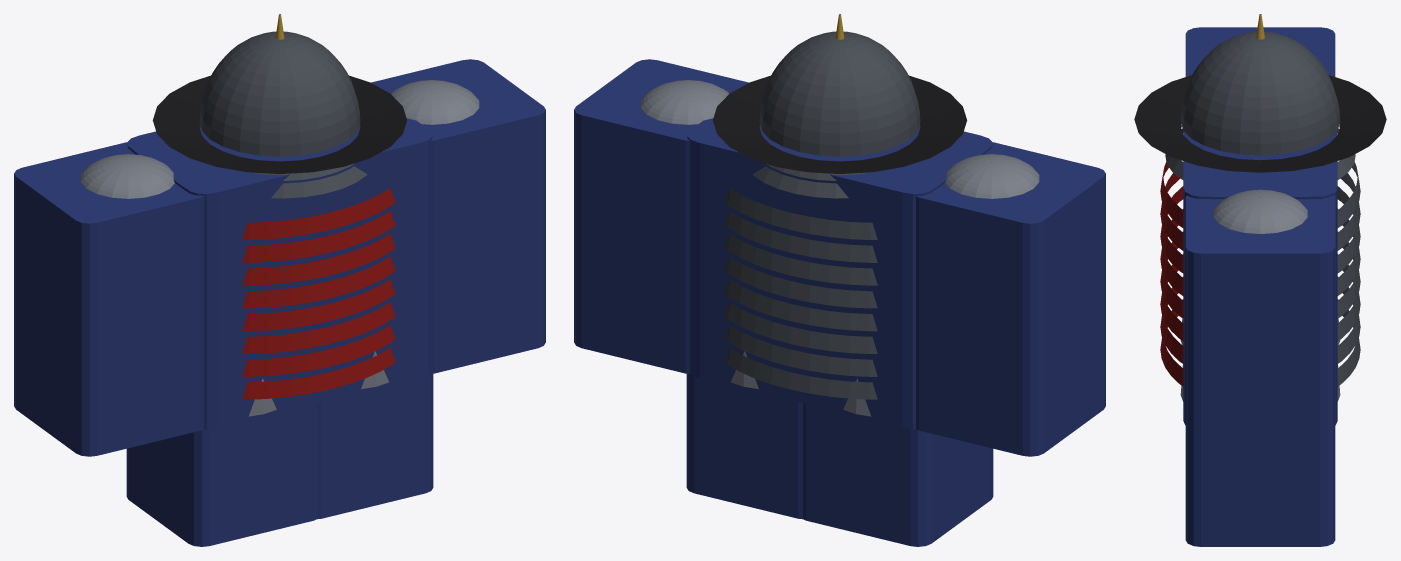
The model's file is korean.obj.
3 views of the same model, side by side, from view 1: azimuth 30°, elevation 25°; view 2: azimuth 150°, elevation 25°; view 3: azimuth 270°, elevation 25° (orthographic).
Visible parts, largest first — view 1: under_arm_L, under_torso, under_arm_R, under_leg_L, korean_skull, under_leg_R, korean_brim, shoulder_L, shoulder_R, lamellar_front_4, lamellar_front_7, lamellar_front_2 (+6 smaller); view 2: under_arm_L, under_torso, under_arm_R, under_leg_L, korean_skull, under_leg_R, korean_brim, shoulder_L, shoulder_R, lamellar_back_4, lamellar_back_7, lamellar_back_2 (+6 smaller); view 3: under_arm_R, korean_skull, under_leg_R, korean_brim, under_torso, shoulder_R, under_arm_L, lamellar_front_1, lamellar_front_2, lamellar_back_1, lamellar_back_2, korean_neck_1 (+12 smaller).
Part boxes in pixels (<box>): under_arm_L: <box>14,142,203,456</box>; under_torso: <box>127,118,432,429</box>; under_arm_R: <box>371,59,545,373</box>; under_leg_L: <box>126,403,316,546</box>; korean_skull: <box>199,31,360,156</box>; under_leg_R: <box>317,374,433,519</box>; korean_brim: <box>152,75,407,173</box>; shoulder_L: <box>80,154,174,198</box>; shoulder_R: <box>390,80,479,124</box>; lamellar_front_4: <box>242,279,395,331</box>; lamellar_front_7: <box>242,347,395,399</box>; lamellar_front_2: <box>242,233,395,285</box>; under_arm_L: <box>916,142,1105,456</box>; under_torso: <box>687,118,992,429</box>; under_arm_R: <box>574,59,748,373</box>; under_leg_L: <box>803,403,993,546</box>; korean_skull: <box>759,31,920,156</box>; under_leg_R: <box>686,374,802,519</box>; korean_brim: <box>712,75,967,173</box>; shoulder_L: <box>945,154,1039,198</box>; shoulder_R: <box>640,80,729,124</box>; lamellar_back_4: <box>724,279,877,331</box>; lamellar_back_7: <box>724,347,877,399</box>; lamellar_back_2: <box>724,233,877,285</box>; under_arm_R: <box>1185,195,1335,484</box>; korean_skull: <box>1180,31,1340,155</box>; under_leg_R: <box>1185,478,1335,546</box>; korean_brim: <box>1134,75,1386,172</box>; under_torso: <box>1183,131,1337,425</box>; shoulder_R: <box>1213,189,1307,233</box>; under_arm_L: <box>1185,27,1335,76</box>; lamellar_front_1: <box>1160,173,1183,250</box>; lamellar_front_2: <box>1160,186,1183,273</box>; lamellar_back_1: <box>1337,173,1360,250</box>; lamellar_back_2: <box>1337,186,1360,273</box>; korean_neck_1: <box>1165,128,1355,179</box>.
Bounding box in the file's own units: 4.16 × 4.07 × 1.96.
